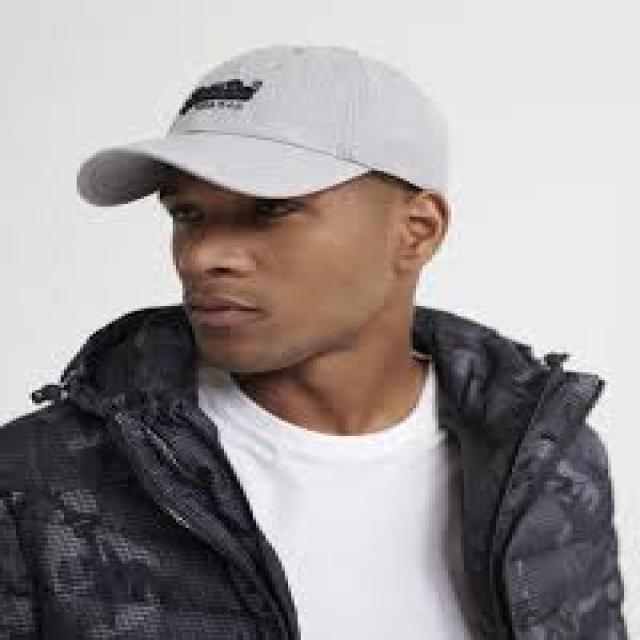cap: (70, 33, 470, 298)
